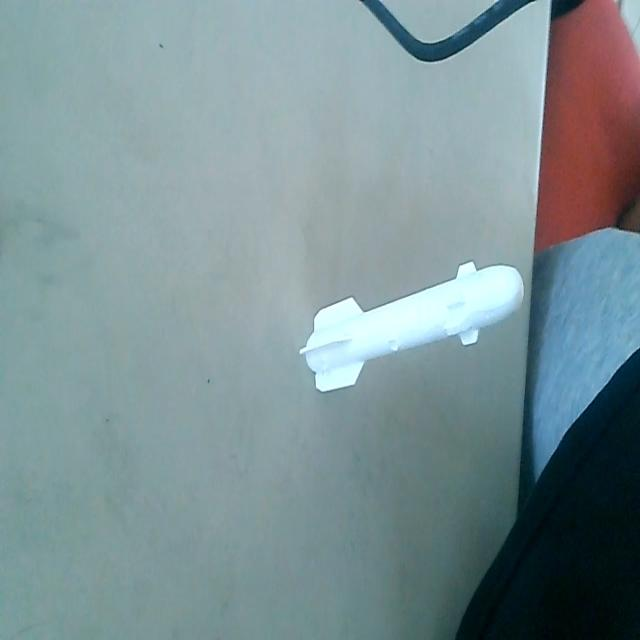Rocket: (299, 249, 526, 398)
